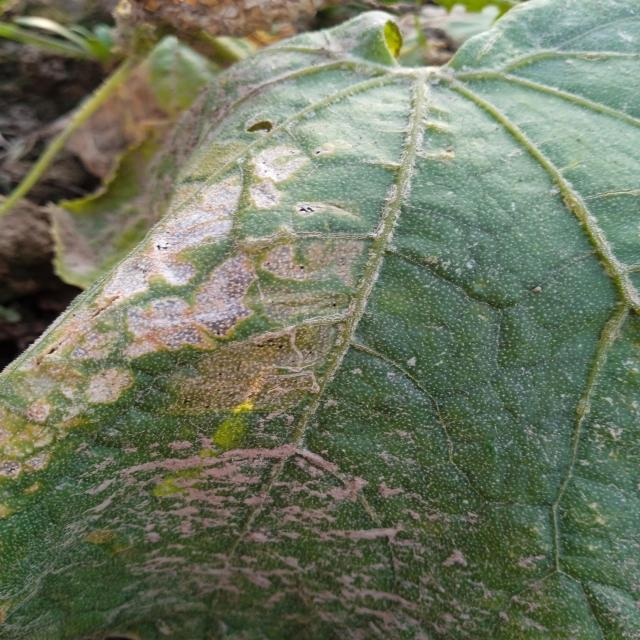cucumber_anthracnose: (9, 52, 627, 615)
